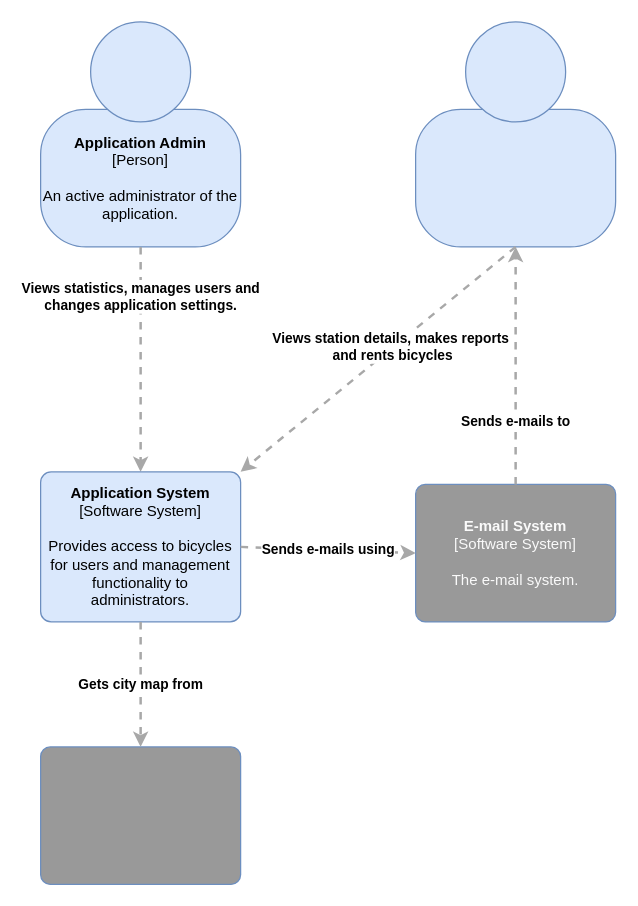
The diagram is 638 pixels wide and 906 high, and some of its shapes have lost their labels. The shapes that lost their labels are listed below. From the top down, each one's box as (x1, y1, x2, y2) in pixels, then its label:
(414, 108, 616, 247): Application User [Person] A user of the application, with a personal account.
(39, 746, 241, 884): Google Maps API [Container: Unknown] Provides the map of the city.
